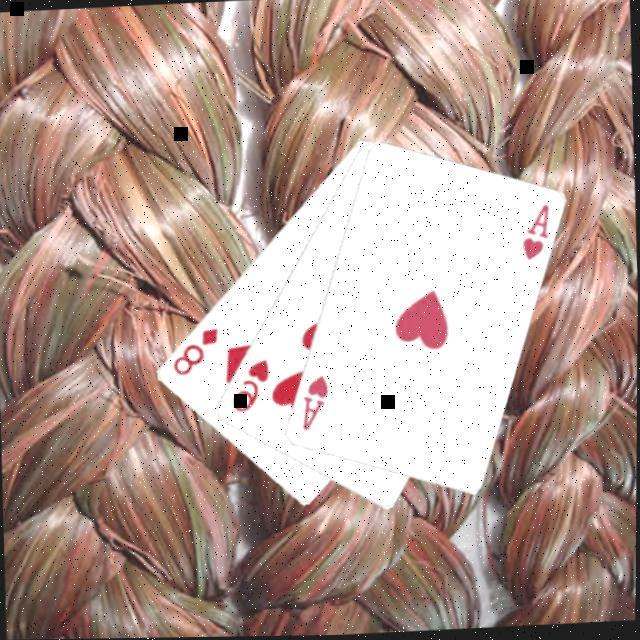8D: (168, 325, 224, 380)
9H: (229, 357, 275, 418)
AH: (298, 372, 334, 435), (519, 202, 555, 265)
